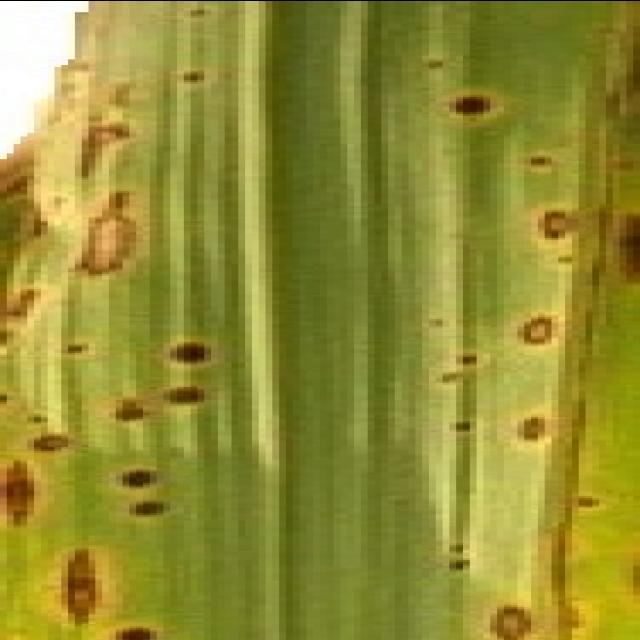Unhealthy: (75, 192, 143, 277), (0, 160, 41, 243), (82, 120, 136, 175), (0, 286, 48, 337), (68, 550, 95, 616), (7, 459, 34, 523), (490, 604, 531, 640), (177, 64, 225, 90), (517, 314, 558, 344), (109, 399, 157, 422), (449, 346, 490, 371), (538, 213, 579, 237), (626, 215, 640, 280), (443, 542, 470, 572), (157, 386, 204, 403), (116, 469, 157, 488), (61, 341, 102, 360), (129, 499, 170, 516), (27, 433, 68, 450), (436, 367, 470, 386), (517, 416, 545, 439), (449, 96, 483, 113), (184, 0, 218, 17), (116, 627, 157, 640), (422, 53, 449, 72), (606, 156, 640, 171), (177, 343, 204, 361), (524, 154, 558, 168), (19, 412, 54, 424), (449, 420, 477, 433), (429, 314, 449, 329), (0, 390, 20, 405), (558, 252, 579, 264), (579, 495, 599, 506)
